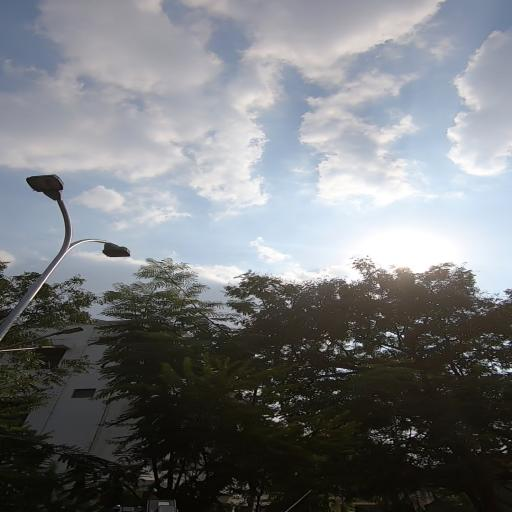Street_light: (20, 171, 77, 220), (86, 232, 140, 266)
